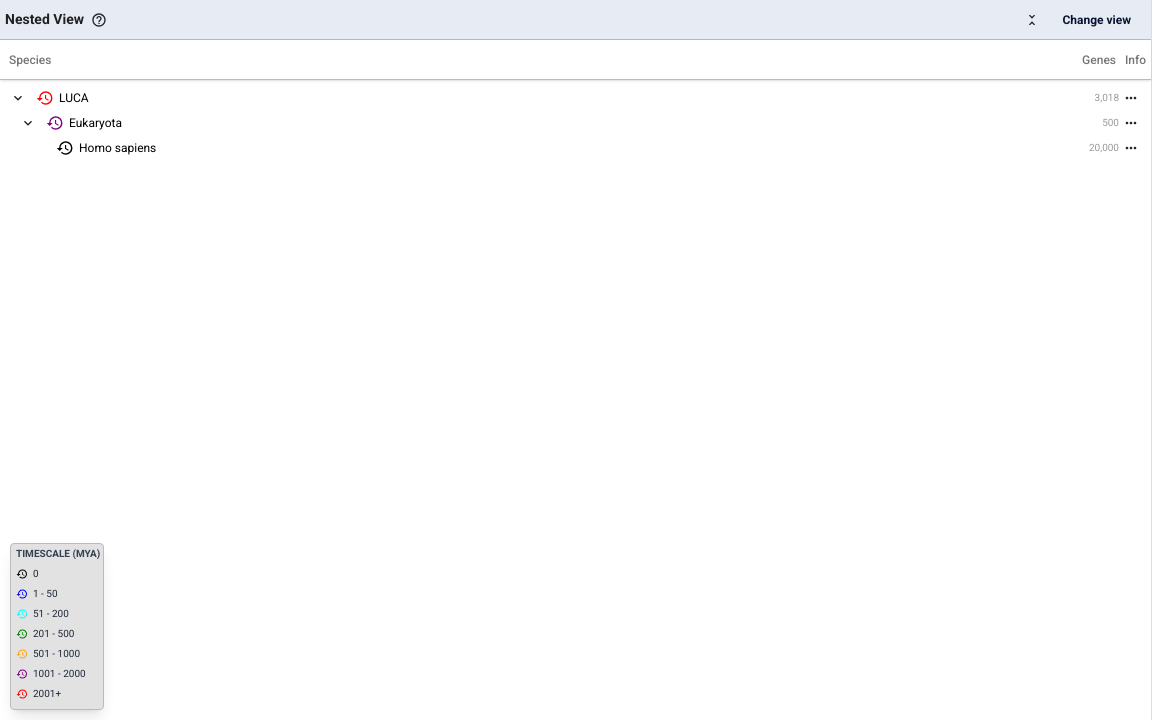
Test: SpeciesTree › collapses a subtree when its caret is clicked, and restores it
Expected: the text "Eukaryota" is shown, left=69, top=116, right=122, bottom=130
Click the button named "Collapse Eukaryota": [28, 122] box left=15, top=110, right=40, bottom=135
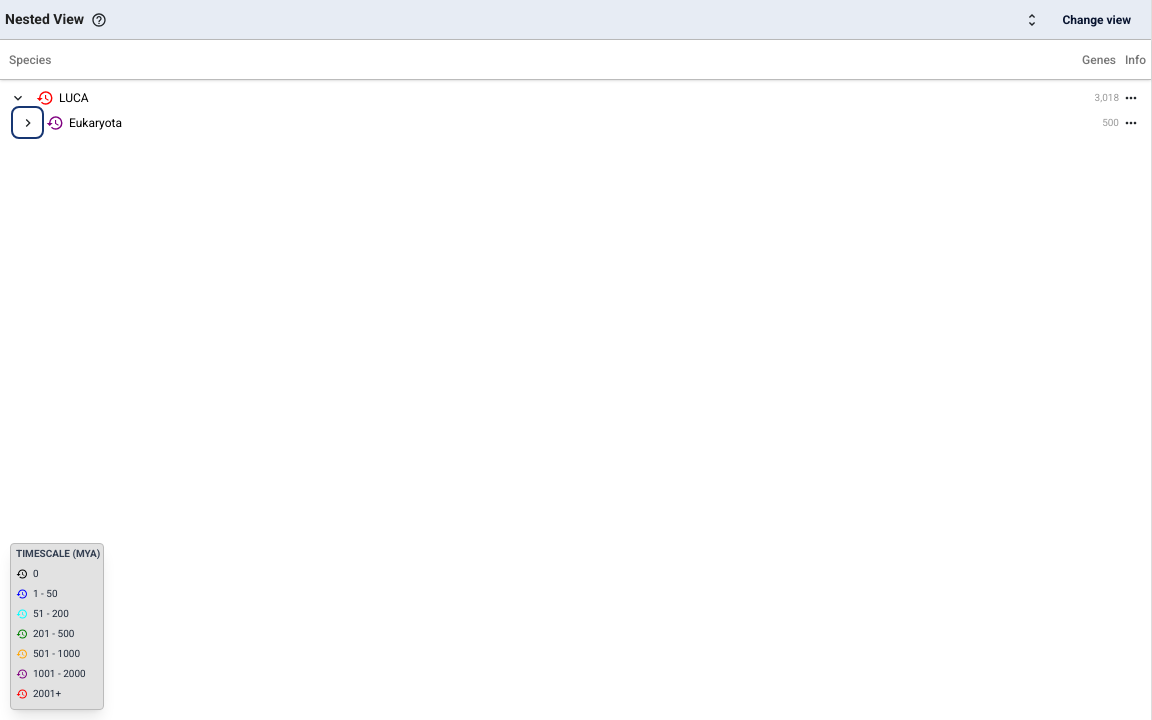
Expected: the text "Homo sapiens" is gone
Click the button named "Expand Eukaryota": [28, 122] box left=15, top=110, right=40, bottom=135
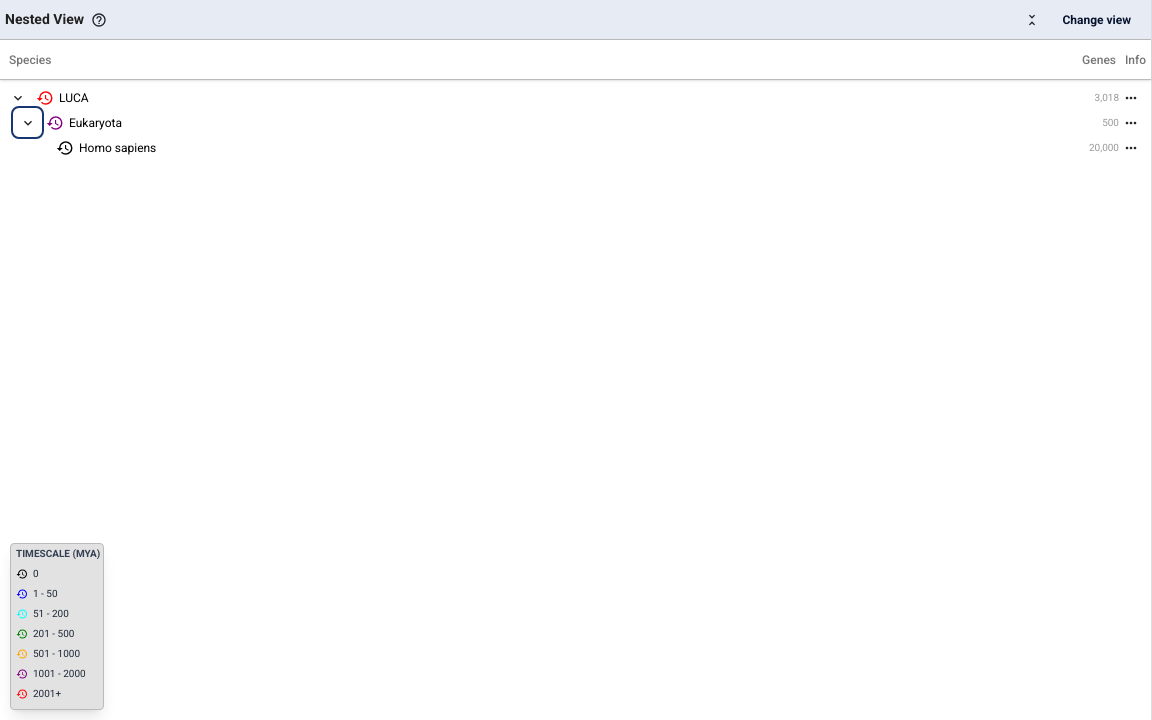
Expected: the text "Homo sapiens" is shown, left=79, top=140, right=156, bottom=154
